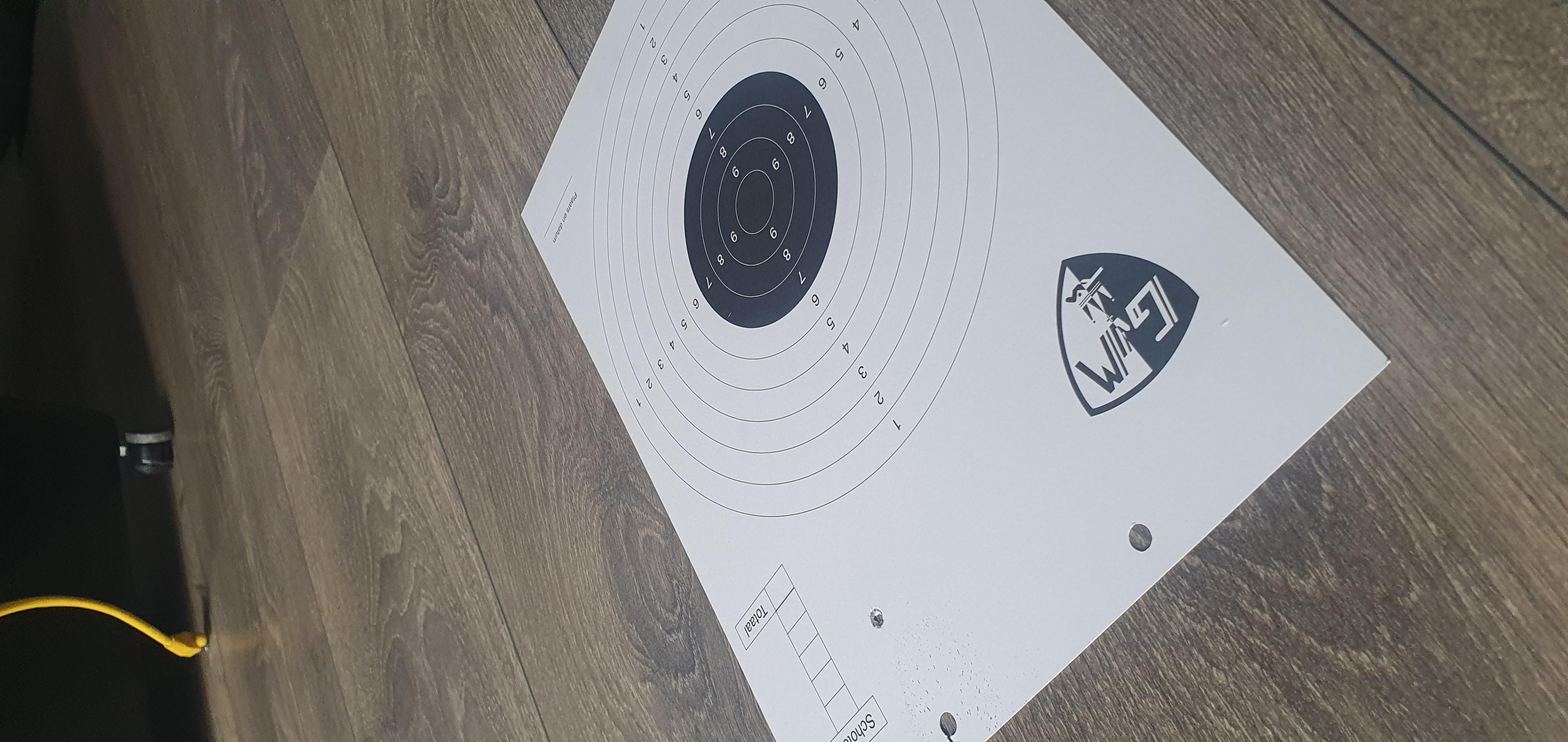hole: (234, 411, 289, 419)
